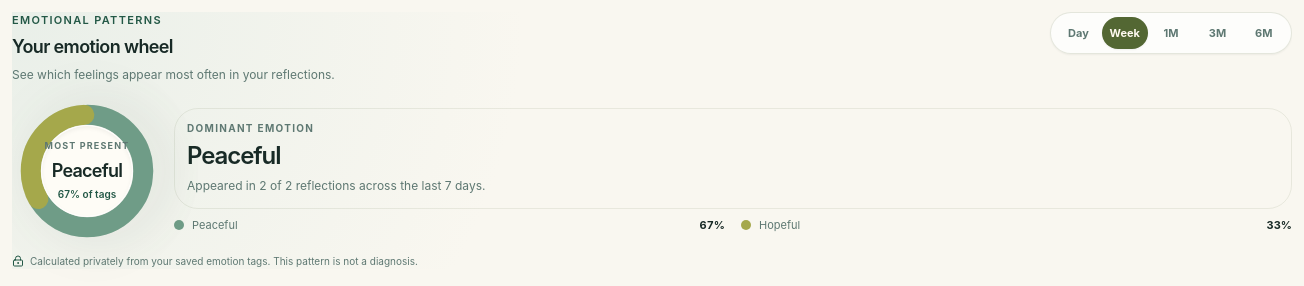
Scenario: DominantEmotionWheel › shows the dominant emotion for the selected period
The width and height of the screenshot is (1304, 286).
Expected: the text "Peaceful" below "Most present" is shown, top-left (52, 160), bottom-right (122, 181)
Expected: the text "Appeared in 2 of 2 reflections across the last 7 days." is shown, top-left (187, 178), bottom-right (486, 193)
What coordinates should you click on to do the following:
click the radio button named "the last 6 months"
I would click on:
 (1264, 33)
Its box is top-left (1241, 17), bottom-right (1287, 49).
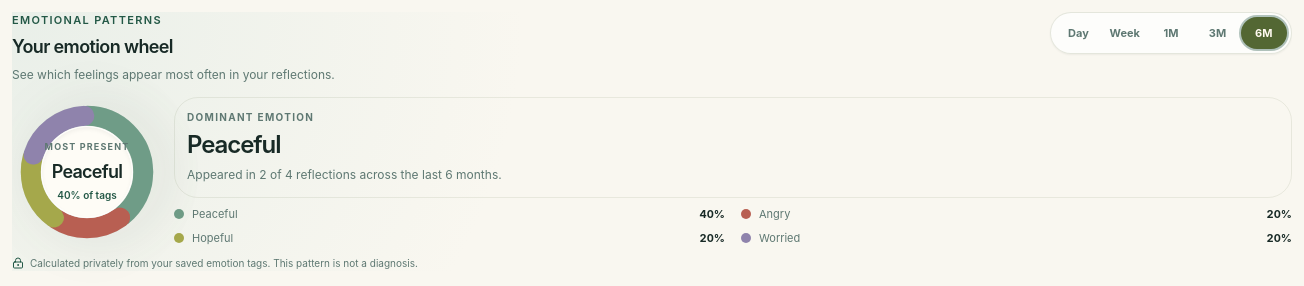
Now the text "Appeared in 2 of 4 reflections across the last 6 months." is shown, box top-left (187, 166), bottom-right (502, 182)
Now the text "Angry" is shown, box top-left (759, 206), bottom-right (790, 220)
